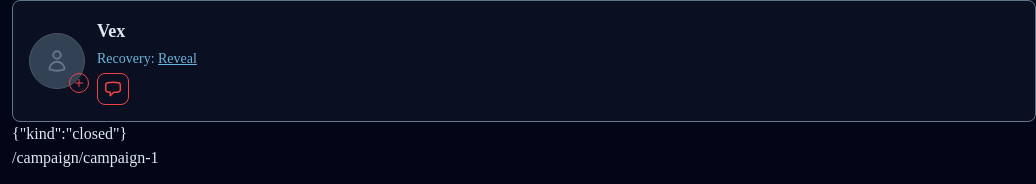
Test: MyCharacterCard › fetches and shows the code only after Reveal is clicked
Click the button "Reveal" at (177, 59), box left=158, top=49, right=197, bottom=69
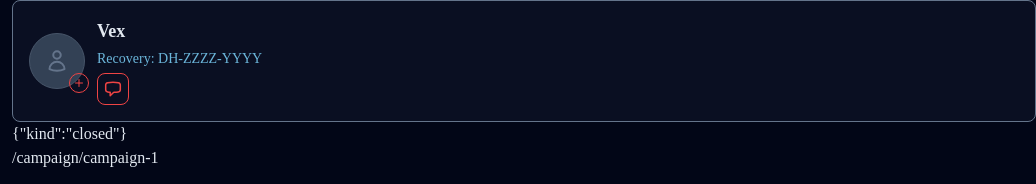
expect the text "Recovery: DH-ZZZZ-YYYY" is shown: met, box left=97, top=51, right=262, bottom=66
expect the button "Reveal" is gone: met
